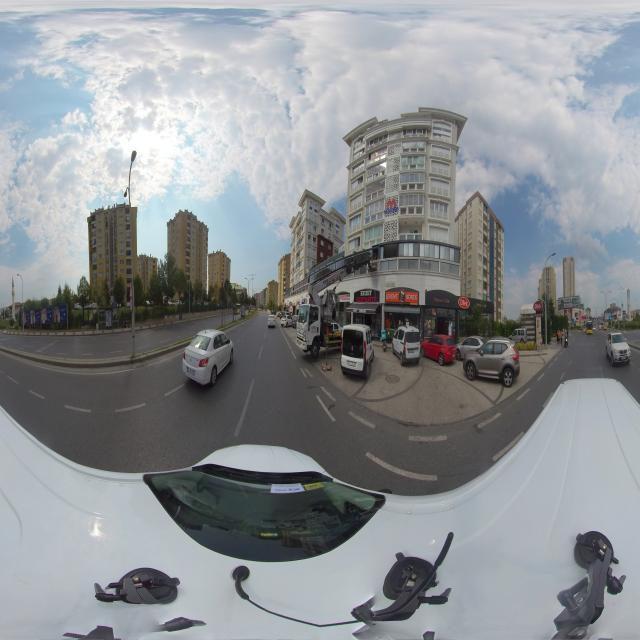SignStore: (457, 295, 493, 312), (385, 287, 419, 304), (354, 290, 380, 302)
